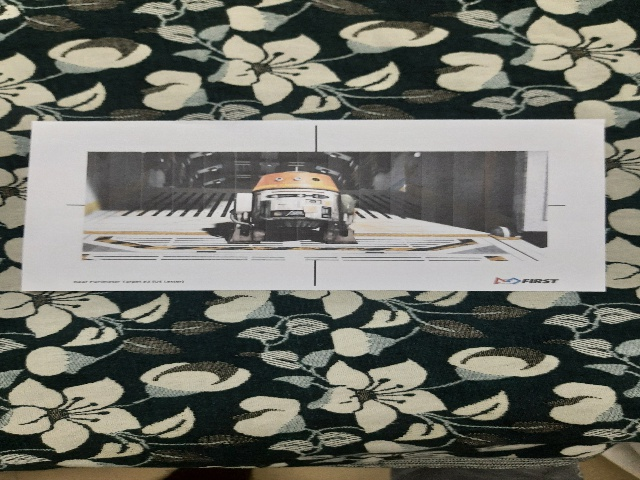rept2: (35, 131, 598, 286)
